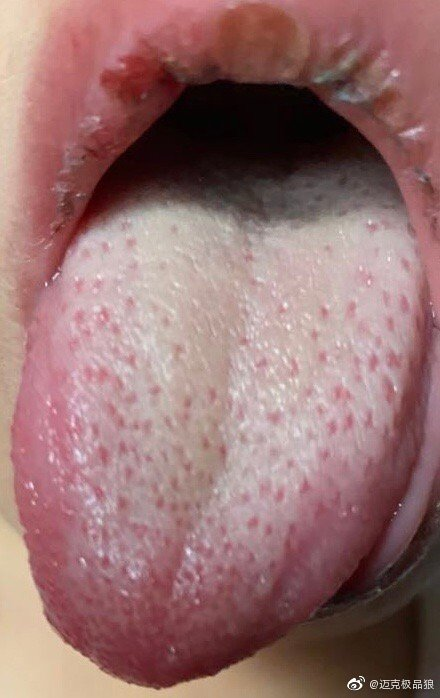baitaishe: (9, 152, 429, 686)
hongdianshe: (97, 549, 113, 572)
hongshe: (9, 152, 429, 686)
